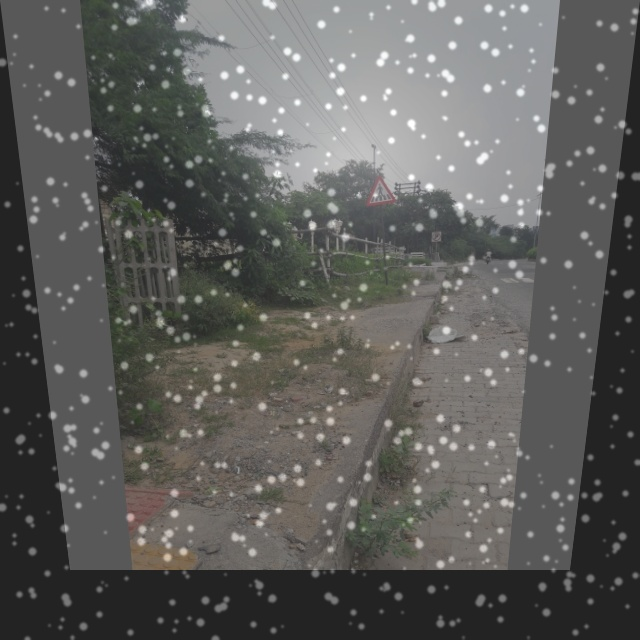Pedestrian_Crossing: (365, 166, 404, 209)
